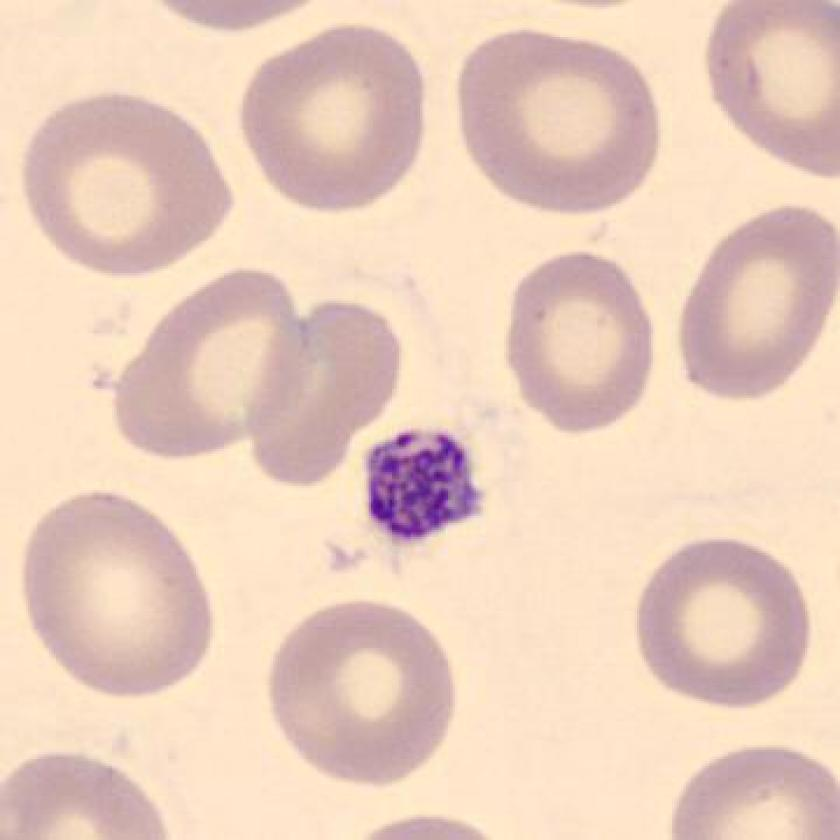platelets: (360, 424, 491, 552)
